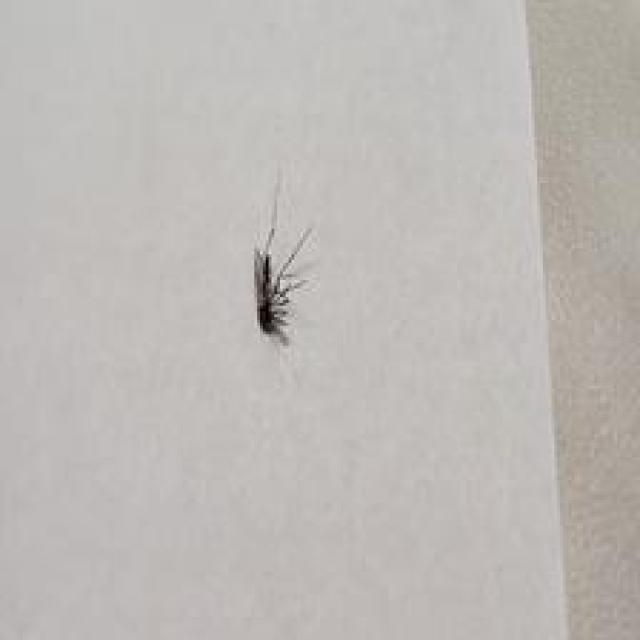Aedes albopictus: (252, 170, 314, 347)
